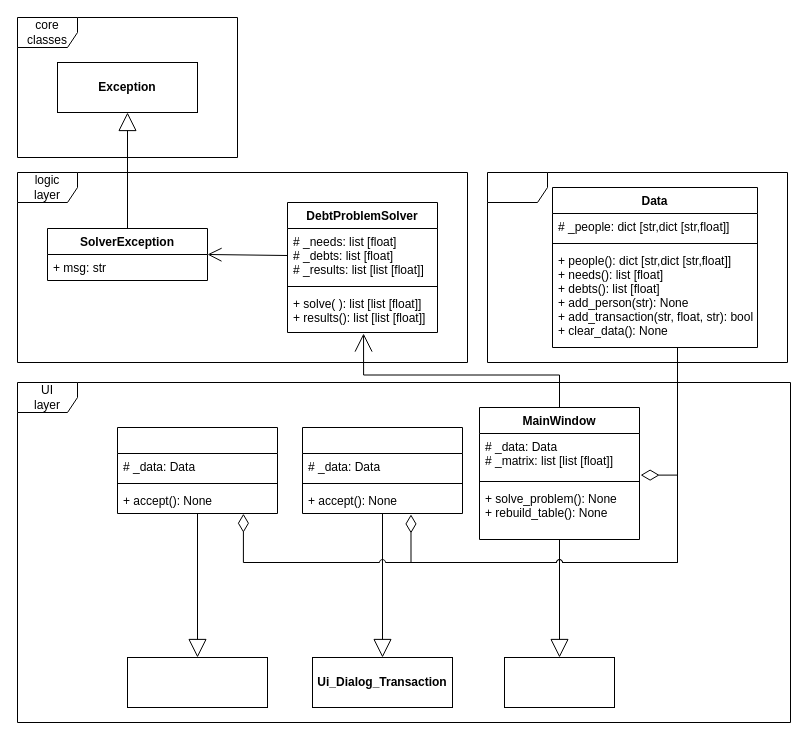
Some shapes in this 808 by 740 pixel diagram are drawn without their labels. Here are the shapes that lost their labels. From the top down, the box of each, then its label:
(486, 172, 788, 362): data layer
(116, 426, 278, 514): AddPersonDialog
(302, 426, 462, 514): TransactionDialog
(126, 656, 268, 708): Ui_Dialog_Add_Person
(504, 656, 614, 708): Ui_MainWindow
